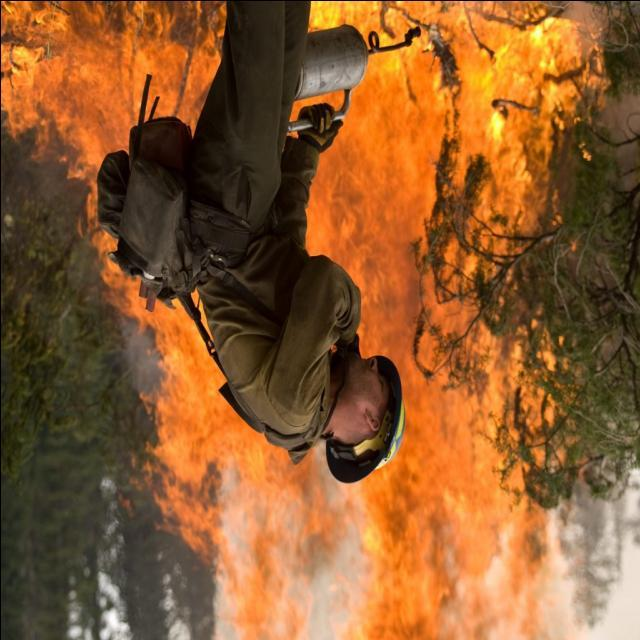Fire: (6, 12, 606, 638)
